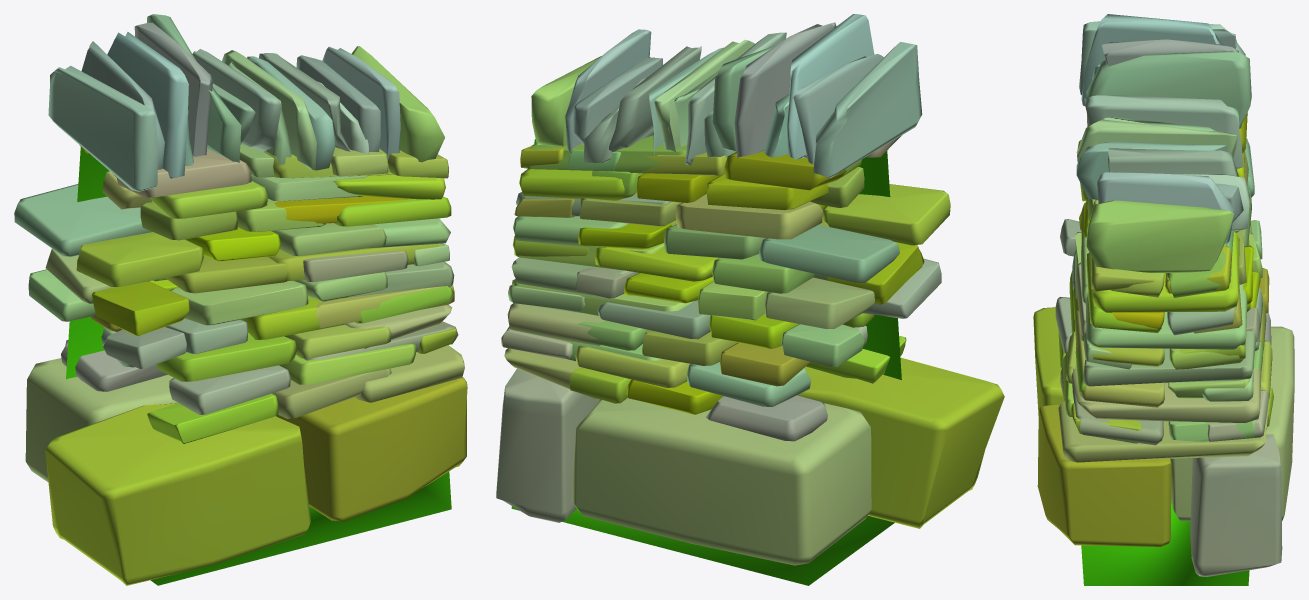
File: SM_Prop_wall_end_5.glb
3 renders of one model, left to right at view 1: azimuth 30°, elevation 25°; view 2: azimuth 150°, elevation 25°; view 3: azimuth 270°, elevation 25°, orthographic. The views are drawn at different scales.
Visible parts, largest first — view 1: SM_Prop_wall_end_5; view 2: SM_Prop_wall_end_5; view 3: SM_Prop_wall_end_5.
Boxes of the visible parts, left/top/right/bottom form: SM_Prop_wall_end_5: left=14, top=14, right=467, bottom=585; SM_Prop_wall_end_5: left=496, top=14, right=1004, bottom=585; SM_Prop_wall_end_5: left=1033, top=14, right=1294, bottom=585.
Bounding box in the file's own units: 1.23 × 1.53 × 0.8022.
